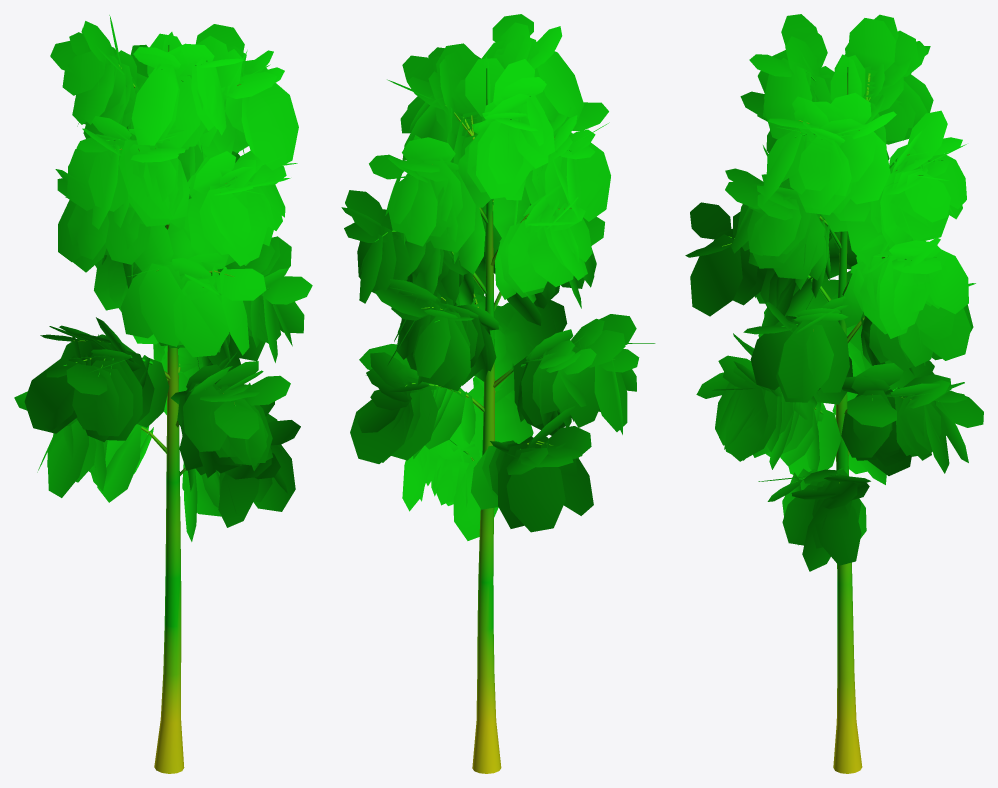
Rendered from tree_birch_b.glb.
The picture shows the model from 3 angles, left to right: view 1: azimuth 30°, elevation 25°; view 2: azimuth 150°, elevation 25°; view 3: azimuth 270°, elevation 25°; orthographic projection. The views are drawn at different scales.
Parts seen in each view (by area): view 1: tree_birch_b.1, tree_birch_b.0; view 2: tree_birch_b.1, tree_birch_b.0; view 3: tree_birch_b.1, tree_birch_b.0.
Boxes of the visible parts, x1=… form: tree_birch_b.1: x1=14, y1=15, x2=312, y2=541; tree_birch_b.0: x1=63, y1=45, x2=270, y2=773; tree_birch_b.1: x1=341, y1=14, x2=655, y2=540; tree_birch_b.0: x1=375, y1=68, x2=615, y2=773; tree_birch_b.1: x1=685, y1=14, x2=983, y2=571; tree_birch_b.0: x1=722, y1=67, x2=943, y2=773.
Bounding box in the file's own units: 5.22 × 14.64 × 5.43.
